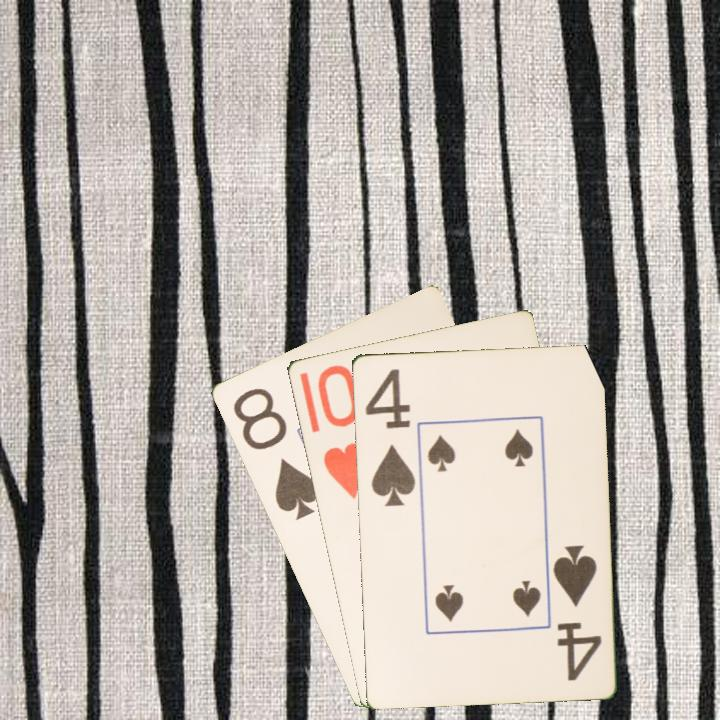10h: (313, 360, 369, 502)
4s: (361, 365, 418, 510), (549, 541, 604, 683)
8s: (228, 384, 322, 523)
